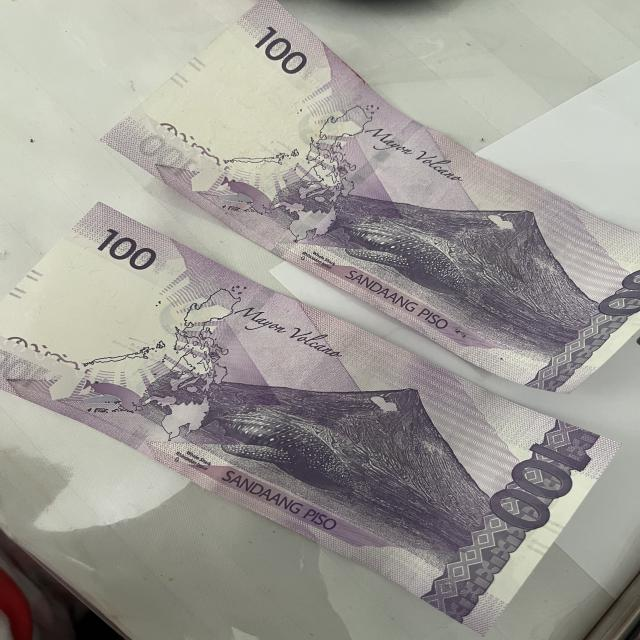100_whale: (180, 388, 385, 510), (313, 203, 487, 308)
100_whale_watermark: (74, 372, 158, 427), (208, 169, 286, 226)
